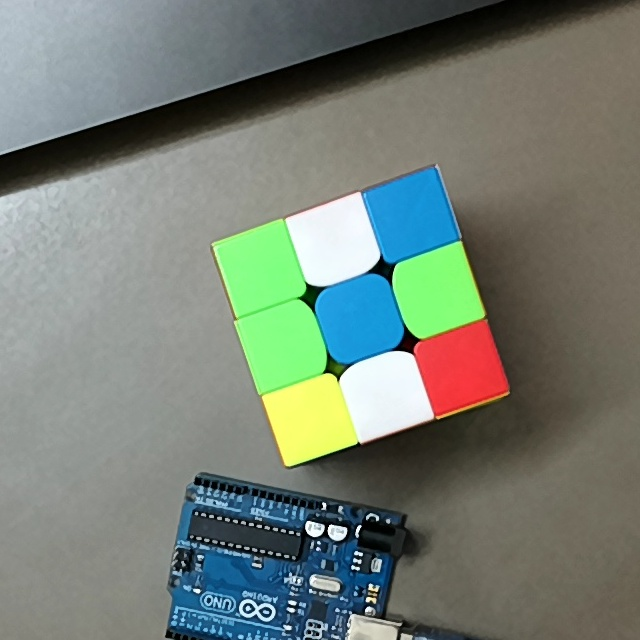tile: (407, 263, 467, 324), (329, 291, 390, 349), (381, 187, 441, 245), (253, 319, 313, 377), (354, 369, 417, 424), (303, 217, 366, 271), (430, 343, 491, 396), (282, 390, 340, 445), (233, 240, 287, 299)
